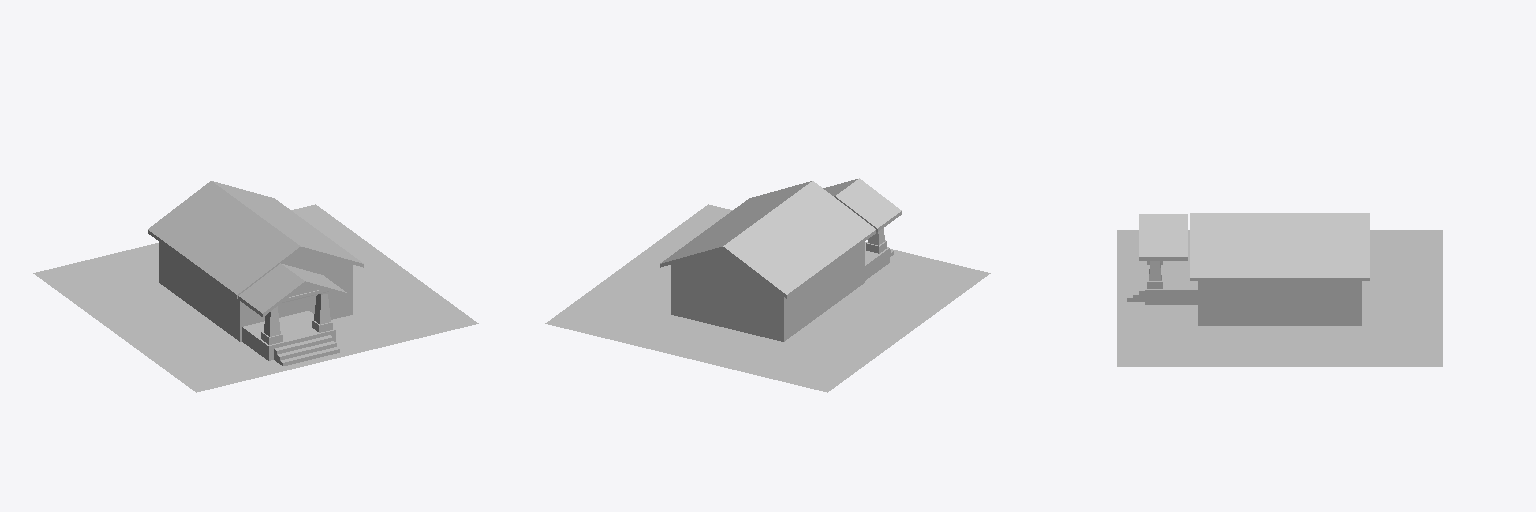
The picture shows the model from 3 angles: view 1: azimuth 30°, elevation 25°; view 2: azimuth 150°, elevation 25°; view 3: azimuth 270°, elevation 25°; orthographic projection.
Visible parts, largest first — view 1: out; view 2: out; view 3: out.
Boxes of the visible parts, <box> form: out: <box>33,181,478,392</box>; out: <box>545,178,990,392</box>; out: <box>1117,213,1442,366</box>.
Bounding box in the file's own units: 20 × 5.75 × 20.